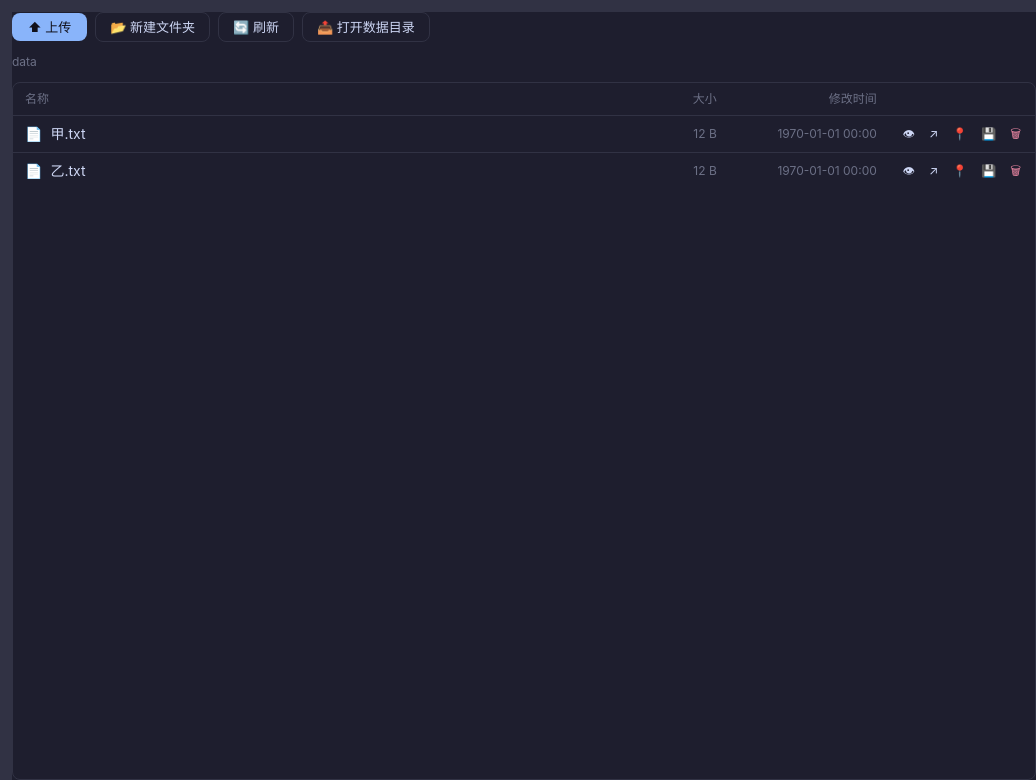
Test: §332 F1 四颗「在系统里打开」：失败回的是 resolve 的 {ok:false} ⇒ 必须各说一句 › reject 面同一张脸（旧写法唯一活着的那半边不许被改坏）
Expected: the text "甲.txt" is shown, [50,124,86,144]
Click the button titled "所在位置" in the row of "甲.txt" at coordinates (960, 134), box [946,122,973,146]
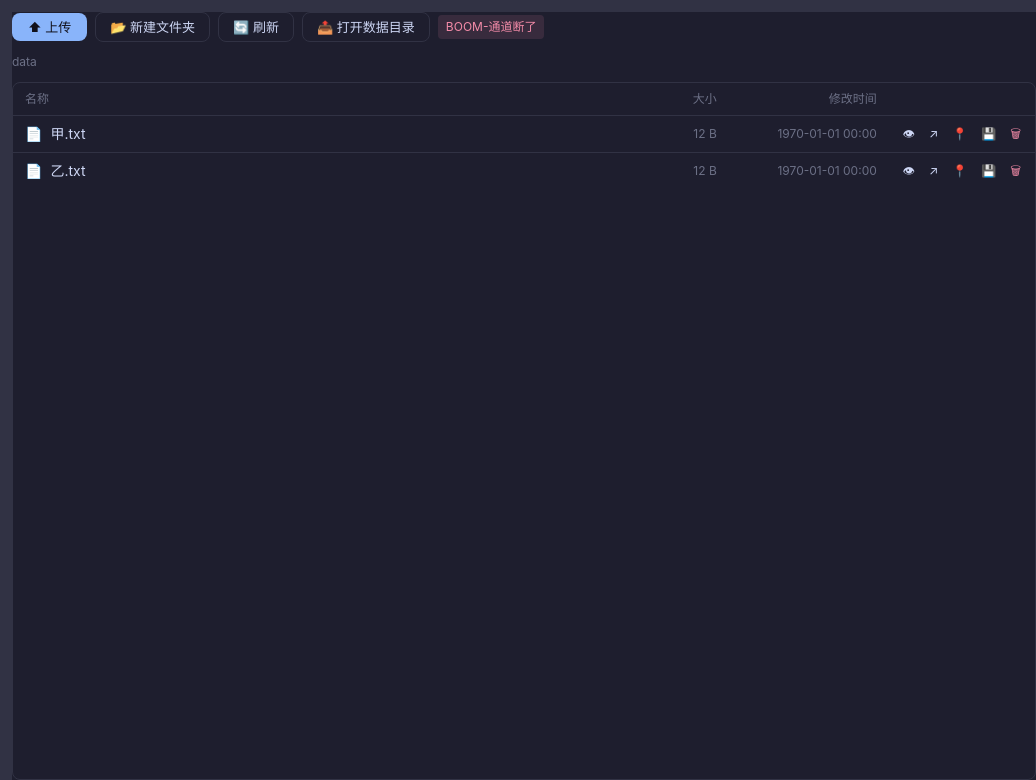
Expected: the text "BOOM-通道断了" is shown, [438,15,544,39]
